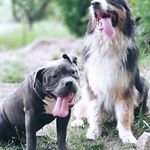puppy: (83, 1, 148, 140), (1, 54, 81, 150)
